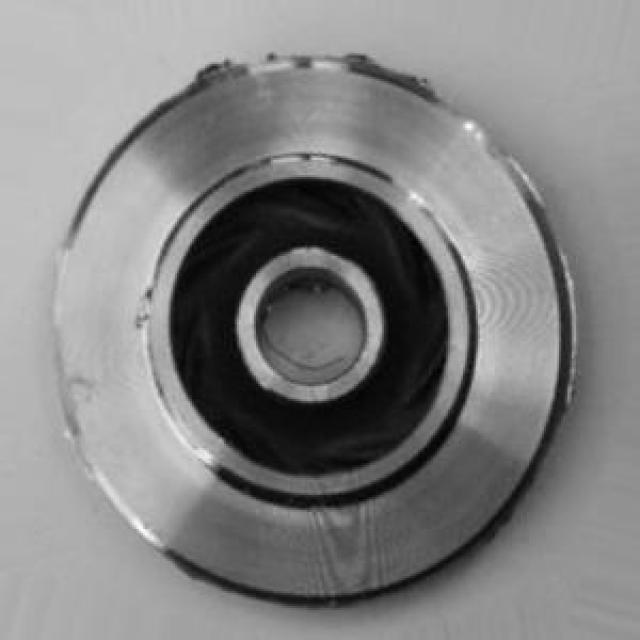Defect: (332, 42, 398, 87)
